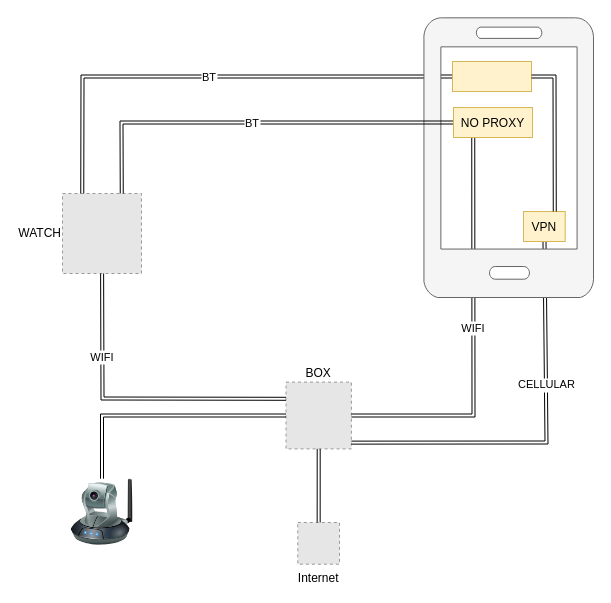
Image size: 611x603. Some labels were removed from this diagram. Grey dashed boxes stand in for pictures. The shapes that lost their labels are listed below. From the top down, each one's box as (x1, y1, x2, y2) in pixels, then its label:
(452, 60, 532, 92): PROXY
(69, 478, 134, 545): IP CAM
